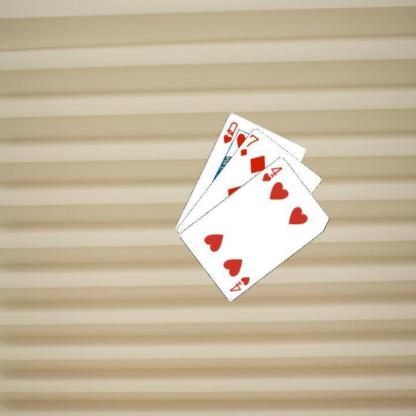4H: (227, 274, 251, 293), (259, 164, 284, 182)
7D: (238, 132, 260, 157)
QH: (220, 118, 238, 144)
